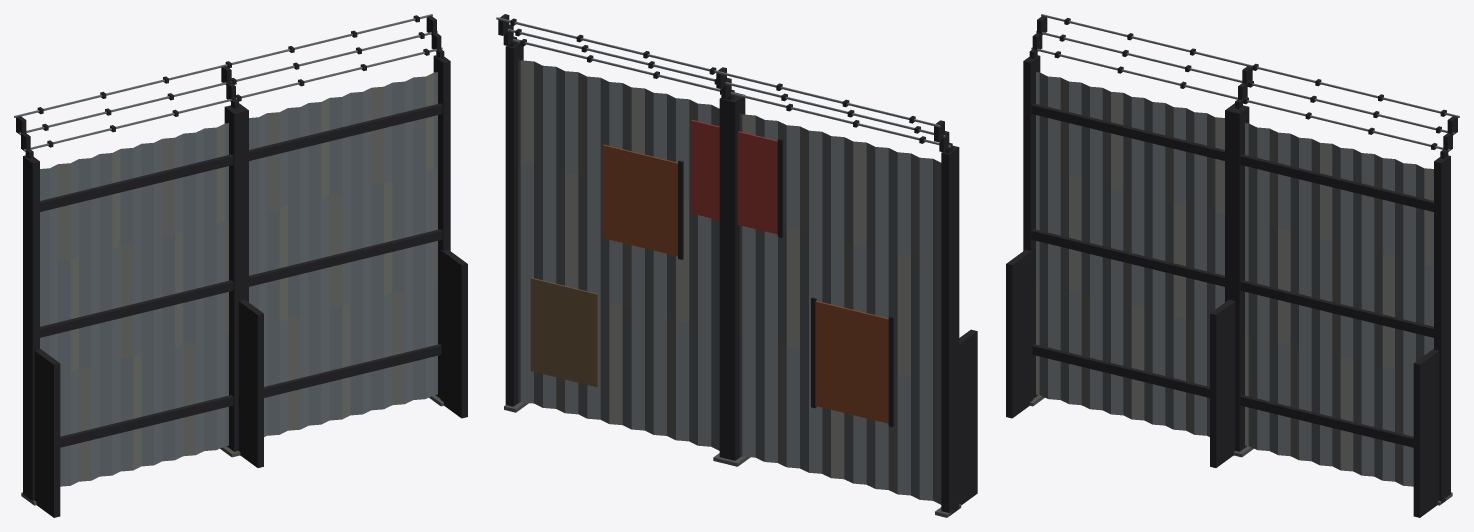
File: camp_wall_metal.glb
3 renders of one model, left to right at view 1: azimuth 30°, elevation 25°; view 2: azimuth 150°, elevation 25°; view 3: azimuth 330°, elevation 25°, orthographic. The views are drawn at different scales.
Parts seen in each view (by area): view 1: camp_wall_metal; view 2: camp_wall_metal; view 3: camp_wall_metal.
Boxes of the visible parts, x1,y1,x2,y2 form: camp_wall_metal: (14,14,467,517); camp_wall_metal: (496,14,977,517); camp_wall_metal: (1006,14,1459,517).
Size of what is drawn, in the model's own units: 4 by 3.44 by 0.645.
2 materials, 2 textured.
